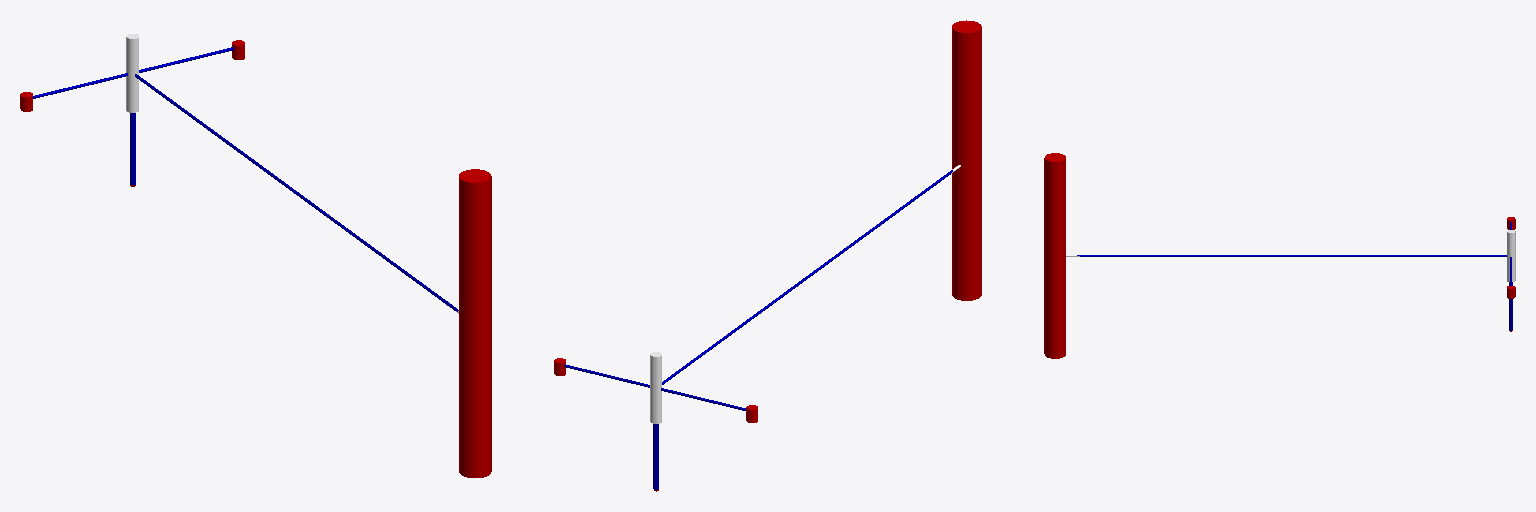
The robot description file, URDF, robot "1dhopper":
<?xml version="1.0"?>
<robot name="1dhopper">
   <material name="blue">
    <color rgba="0 0 0.8 1"/>
  </material>

  <material name="red">
   <color rgba="0.8 0 0 1"/>
 </material>

  <material name="white">
    <color rgba="1 1 1 0.5"/>
  </material>

  <link name="base">
    <visual>
      <geometry>
        <cylinder length="2" radius="0.1"/>
      </geometry>
      <material name="red"/>
      <origin rpy="0 0 1.57075" xyz="0 0 0"/>
    </visual>
    <collision>
       <geometry>
         <cylinder length="2" radius="0.1"/>
       </geometry>
       <origin rpy="0 0 1.57075" xyz="0 0 0"/>
     </collision>
     <inertial>
     <mass value="1000"/>
     <origin rpy="0 0 1.57075" xyz="0 0 0"/>
     <inertia ixx="0.4" ixy="0.0" ixz="0.0" iyy="0.4" iyz="0.0" izz="0.2"/>
   </inertial>
  </link>

<link name="L1">
    <visual>
      <geometry>
        <cylinder length="0.15" radius="0.01"/>
      </geometry>
      <material name="white"/>
      <origin rpy="1.57075 0 0" xyz="0 0.15 0"/>
    </visual>
    <collision>
       <geometry>
         <cylinder length="0.15" radius="0.01"/>
       </geometry>
       <origin rpy="1.57075 0 0" xyz="0 0.15 0"/>
     </collision>
  <inertial>
     <mass value="0.001"/>
     <inertia ixx="0.4" ixy="0.0" ixz="0.0" iyy="0.4" iyz="0.0" izz="0.2"/>
     <origin rpy="1.57075 0 0" xyz="0 0.15 0"/>
  </inertial>
</link>

 <joint name="base_jiont_L1" type="continuous">
<!-- <joint name="base_jiont_L1" type="fixed"> -->
      <parent link="base"/>
      <child link="L1"/>
       <axis xyz="0 0 1"/>
      <origin xyz="0 0 0"/>
      <dynamics damping="0.0" friction="0.0"/>
      <contact_coefficients mu="0" />
    </joint>

<link name="L2">
    <visual>
      <geometry>
        <cylinder length="4" radius="0.01"/>
      </geometry>
      <material name="blue"/>
      <origin rpy="1.57075 0 0" xyz="0 2 0"/>
    </visual>
    <collision>
       <geometry>
         <cylinder length="4" radius="0.01"/>
       </geometry>
       <origin rpy="1.57075 0 0" xyz="0 2 0"/>
     </collision>
  <inertial>
     <mass value="0.0001"/>
     <inertia ixx="0.4" ixy="0.0" ixz="0.0" iyy="0.4" iyz="0.0" izz="0.2"/>
     <origin rpy="1.57075 0 0" xyz="0 0.2 0"/>
  </inertial>
  </link>

 <!-- <joint name="L1_L2" type="fixed"> -->
 <joint name="L1_L2" type="continuous">

      <parent link="L1"/>
      <child link="L2"/>
       <axis xyz="1 0 0"/>
      <origin xyz="0 0.2 0"/>
      <dynamics damping="0.0" friction="0.0"/>
      <contact_coefficients mu="0" />

  </joint>

 <link name="balance_beam">
    <visual>
     <material name="blue"/>
      <geometry>
        <cylinder length="1.5" radius="0.01"/>
      </geometry>
      <origin rpy="0 1.57075 0" xyz="0 0 0"/>
    </visual>
    <collision>
       <geometry>
         <cylinder length="1.5" radius="0.01"/>
       </geometry>
       <origin rpy="0 1.57075 0" xyz="0 0 0"/>
     </collision>
     <inertial>
     <mass value="0.05"/>
     <inertia ixx="0.4" ixy="0.0" ixz="0.0" iyy="0.4" iyz="0.0" izz="0.2"/>
     <origin rpy="0 1.57075 0" xyz="0 0 0"/>
   </inertial>
  </link>

 <joint name="L2_beam" type="fixed">
   <!-- continuous -->
      <parent link="L2"/>
      <child link="balance_beam"/>
      <origin xyz="0 4 0"/>
      <axis xyz="0 1 0"/>
      <dynamics damping="0.0" friction="0.0"/>
      <contact_coefficients mu="0" />

       <!-- <limit effort="1000.0" lower="-0.8" upper="0.8" velocity="10"/> -->
       <!-- <limit effort="1000.0" lower="0" upper="0" velocity="10"/> -->
  </joint>

  <link name="base_link">
    <visual>
      <geometry>
        <cylinder length="0.5" radius="0.04"/>
      </geometry>
      <material name="white"/>
    </visual>
    <collision>
       <geometry>
         <cylinder length="0.5" radius="0.04"/>
       </geometry>
     </collision>
     <inertial>
     <mass value="0.15"/>
     <inertia ixx="0.4" ixy="0.0" ixz="0.0" iyy="0.4" iyz="0.0" izz="0.2"/>
   </inertial>

  </link>

  <joint name="base_to_beam" type="revolute">
      <axis xyz="0 1 0"/>
      <limit effort="1000.0" lower="-1.57079632679" upper="1.57079632679" velocity="100"/>
      <dynamics damping="0.0" friction="0.1"/>
      <contact_coefficients mu="0" />

      <!-- <limit effort="1000.0" lower="-1.2" upper="1.2" velocity="10"/> -->
      <parent link="balance_beam"/>
      <child link="base_link"/>
      <origin xyz="0 0 0"/>

    </joint>

    <link name="leg">
        <visual>
          <geometry>
            <cylinder length="0.5" radius="0.02"/>
          </geometry>
          <material name="blue"/>
          <origin rpy="0 0 0" xyz="0 0 0"/>
        </visual>
        <collision>
           <geometry>
             <cylinder length="0.5" radius="0.02"/>
           </geometry>
           <origin rpy="0 0 0" xyz="0 0 0"/>
         </collision>
         <inertial>
         <mass value="0.45"/>
         <inertia ixx="0.4" ixy="0.0" ixz="0.0" iyy="0.4" iyz="0.0" izz="0.2"/>
         <origin rpy="0 0 0" xyz="0 0 -0.4"/>
       </inertial>
      </link>

      <!-- <joint name="foot_joint" type="fixed"> -->
      <joint name="foot_joint" type="prismatic">
          <axis xyz="0 0 1"/>
          <limit effort="1000.0" lower="0" upper="0.5" velocity="1000"/>
          <!-- <dynamics damping="0" friction="0"/> -->
          <parent link="base_link"/>
          <child link="leg"/>
          <origin xyz="0 0 -0.5"/>

      </joint>

      <link name="toe">
        <visual>
          <geometry>
            <sphere radius="0.02"/>
          </geometry>
          <material name="red"/>
        </visual>
        <collision>
          <geometry>
            <sphere radius="0.02"/>
          </geometry>
          <contact_coefficients mu="0.8" />
         </collision>
         <contact>
             <lateral_friction value="0.9"/>
             <contact_coefficients mu="0.8" />
         </contact>
         <inertial>
         <mass value="5"/>
         <inertia ixx="1.0" ixy="0.0" ixz="0.0" iyy="1.0" iyz="0.0" izz="1.0"/>
       </inertial>

      </link>

      <joint name="leg_toe" type="fixed">
          <parent link="leg"/>
          <child link="toe"/>
          <origin xyz="0 0 -0.25"/>
          <!-- <dynamics damping="0.5" friction="1.0"/> -->
        </joint>

<link name="left_weight">
    <visual>
      <geometry>
        <cylinder length="0.1" radius="0.04"/>
      </geometry>
      <material name="red"/>
      <origin rpy="0 0 1.57075" xyz="0 0 0"/>
    </visual>
    <collision>
       <geometry>
         <cylinder length="0.1" radius="0.04"/>
       </geometry>
       <origin rpy="0 0 1.57075" xyz="0 0 0"/>
     </collision>
     <inertial>
     <mass value="4"/>
     <origin rpy="0 0 1.57075" xyz="0 0 0"/>
     <inertia ixx="0.4" ixy="0.0" ixz="0.0" iyy="0.4" iyz="0.0" izz="0.2"/>
   </inertial>
  </link>

<link name="right_weight">
    <visual>
      <geometry>
        <cylinder length="0.1" radius="0.04"/>
      </geometry>
      <material name="red"/>
      <origin rpy="0 0 1.57075" xyz="0 0 0"/>
    </visual>
    <collision>
       <geometry>
         <cylinder length="0.1" radius="0.04"/>
       </geometry>
       <origin rpy="0 0 1.57075" xyz="0 0 0"/>
     </collision>
     <inertial>
     <mass value="4"/>
     <origin rpy="0 0 1.57075" xyz="0 0 0"/>
     <inertia ixx="0.4" ixy="0.0" ixz="0.0" iyy="0.4" iyz="0.0" izz="0.2"/>
   </inertial>
  </link>

<joint name="leftWeight_beam" type="fixed">
          <parent link="balance_beam"/>
          <child link="left_weight"/>
          <origin xyz="0.75 0 -0.02"/>
        </joint>

<joint name="rightWeight_beam" type="fixed">
          <parent link="balance_beam"/>
          <child link="right_weight"/>
          <origin xyz="-0.75 0 -0.02"/>
        </joint>

</robot>

--- Render facts (derived) ---
Views: 3 orthographic renders of the robot side by side, from view 1: azimuth 30°, elevation 25°; view 2: azimuth 150°, elevation 25°; view 3: azimuth 270°, elevation 25°.
Robot: 1dhopper — 9 links, 8 joints (1 revolute, 2 continuous, 1 prismatic, 4 fixed); root link base; default pose: every joint at zero.
Links seen in each view (by area): view 1: base, L2, base_link, balance_beam; view 2: base, L2, base_link; view 3: base, L2.
Link boxes in pixels (box(x1,y1,x2,y2)): base: box(459, 169, 491, 477); L2: box(135, 74, 458, 311); base_link: box(126, 34, 138, 112); balance_beam: box(33, 47, 233, 98); base: box(952, 20, 981, 300); L2: box(662, 170, 952, 384); base_link: box(650, 352, 661, 423); base: box(1044, 153, 1065, 358); L2: box(1077, 255, 1506, 256).
Size in the robot's own frame: 1.58 by 4.34 by 2 metres.
Geometry: primitives only (box / cylinder / sphere), no mesh files.